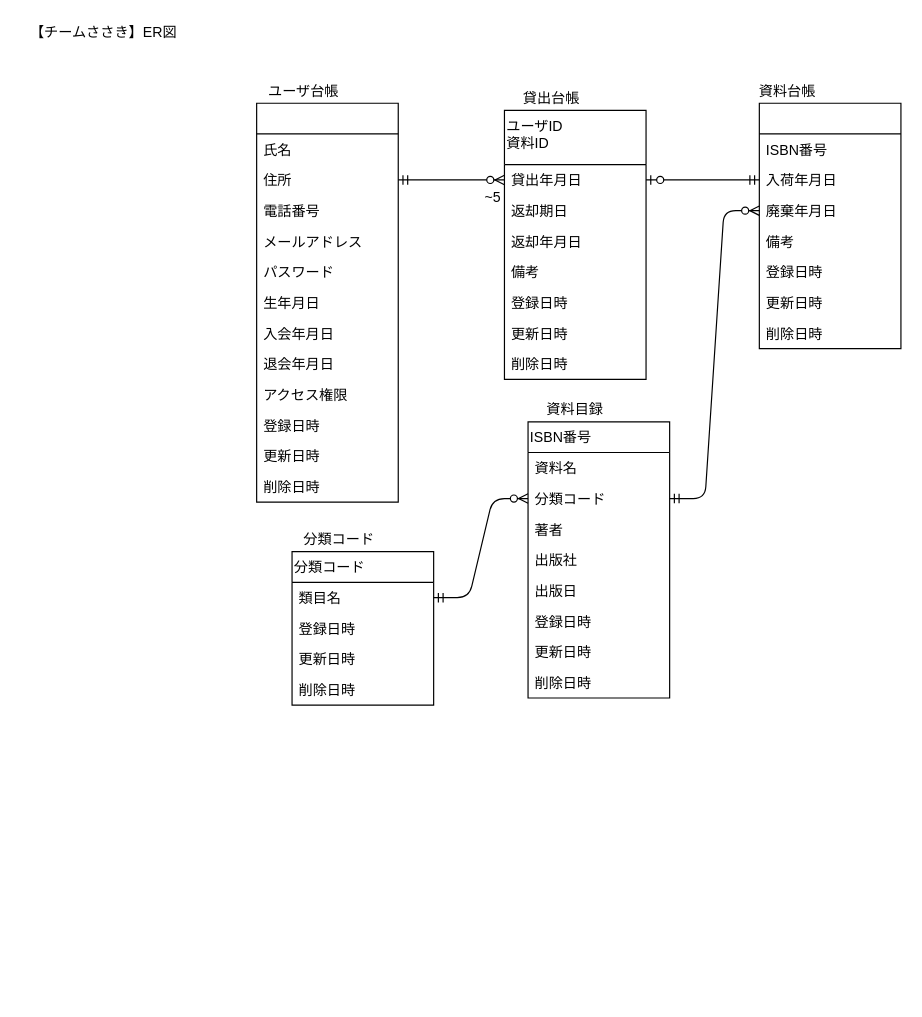
Image size: 922x1017. Some labels were removed from this diagram. Each missing label, with the box of its shape:
ユーザID: (255, 102, 398, 502)
資料ID: (758, 102, 901, 349)
